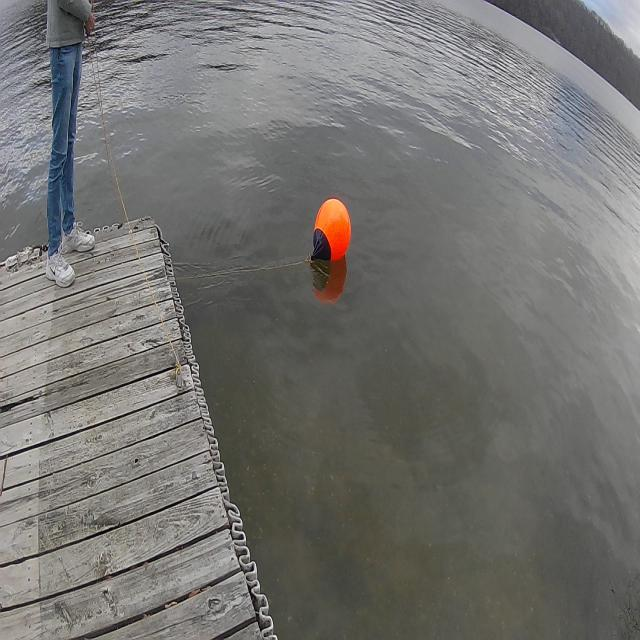Buoy: (307, 187, 355, 280)
